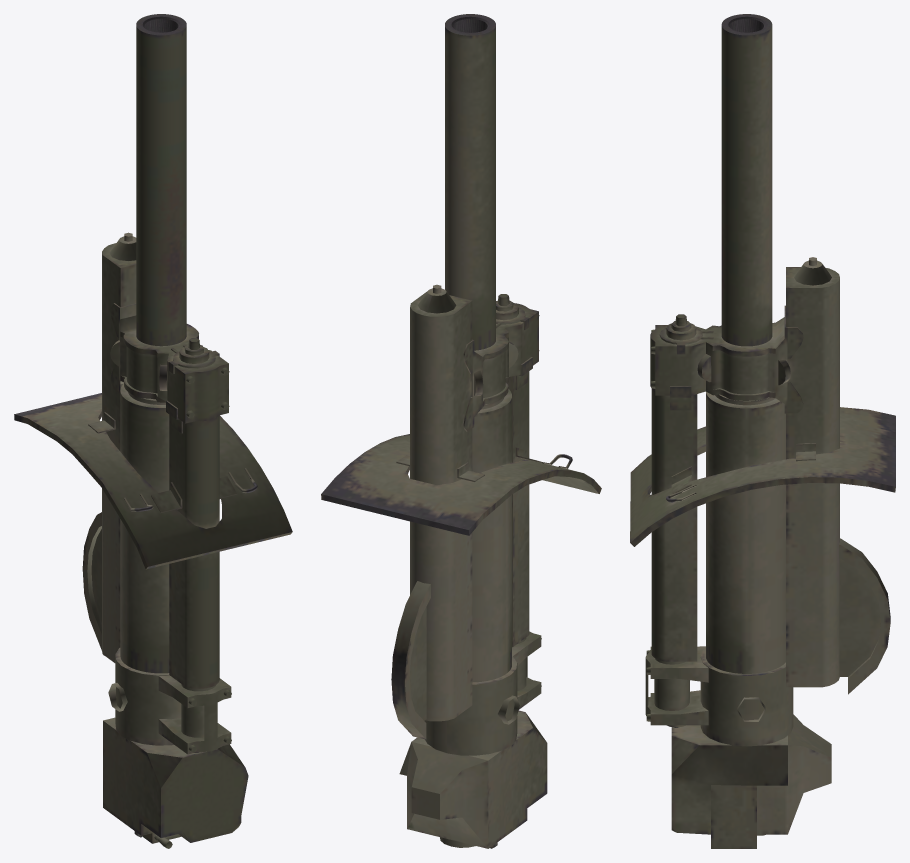
The model's file is Gun_01.glb.
The picture shows the model from 3 angles, left to right: view 1: azimuth 30°, elevation 25°; view 2: azimuth 150°, elevation 25°; view 3: azimuth 270°, elevation 25°; orthographic projection.
Parts seen in each view (by area): view 1: set_0_group_0; view 2: set_0_group_0; view 3: set_0_group_0.
Part boxes in pixels (x1,y1,x2,y2): set_0_group_0: (14,14,292,848); set_0_group_0: (321,14,601,848); set_0_group_0: (630,14,895,848).
Size of the model in its own units: 0.6017 by 3.17 by 0.9461.
Materials: 1 (1 with a texture image).
